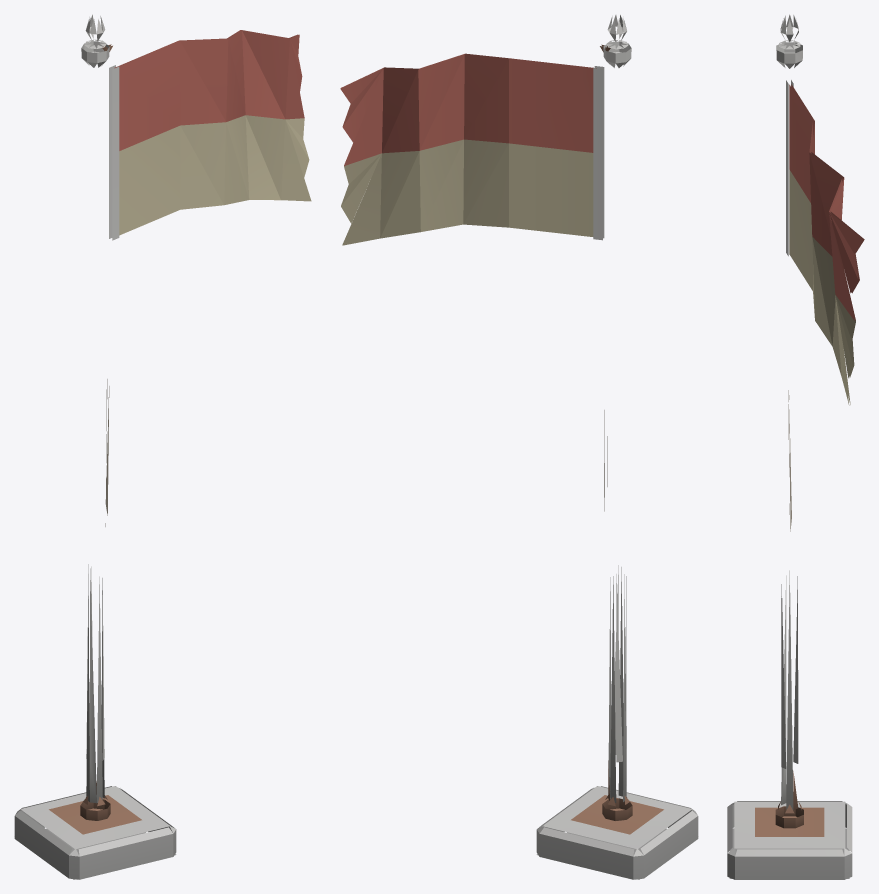
Rendered from flag.lod.glb.
3 views of the same model, side by side, from view 1: azimuth 30°, elevation 25°; view 2: azimuth 150°, elevation 25°; view 3: azimuth 270°, elevation 25° (orthographic).
Parts seen in each view (by area): view 1: flag.001; view 2: flag.001; view 3: flag.001.
Part boxes in pixels (box(x1,y1,x2,y2)): flag.001: box(14, 14, 311, 879); flag.001: box(340, 15, 698, 879); flag.001: box(727, 14, 864, 879).
Size of the model in its own units: 2.23 by 5.91 by 0.8796.
